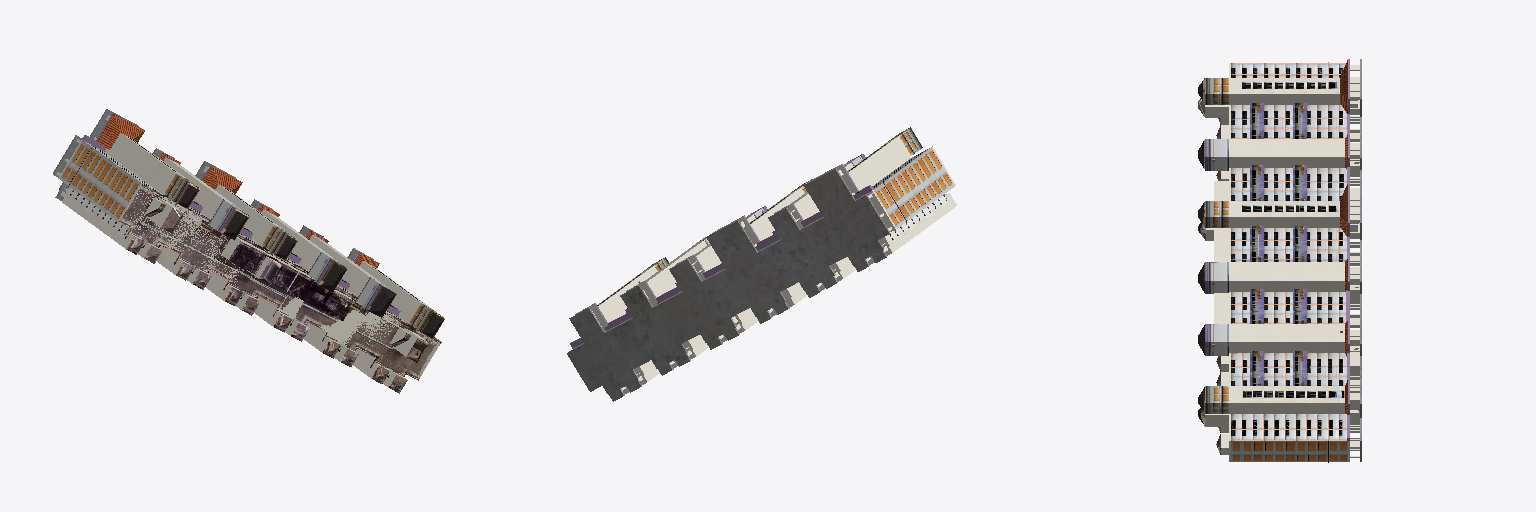
3 views of the same model, side by side, from view 1: azimuth 30°, elevation 25°; view 2: azimuth 150°, elevation 25°; view 3: azimuth 270°, elevation 25° (orthographic).
Parts seen in each view (by area): view 1: polygon.016; view 2: polygon.016; view 3: polygon.016.
Boxes of the visible parts, x1=… form: polygon.016: x1=53, y1=109, x2=444, y2=393; polygon.016: x1=567, y1=127, x2=956, y2=401; polygon.016: x1=1198, y1=59, x2=1361, y2=462.
Size of the model in its own units: 96.9 by 81.41 by 42.14.
1 materials, 1 textured.